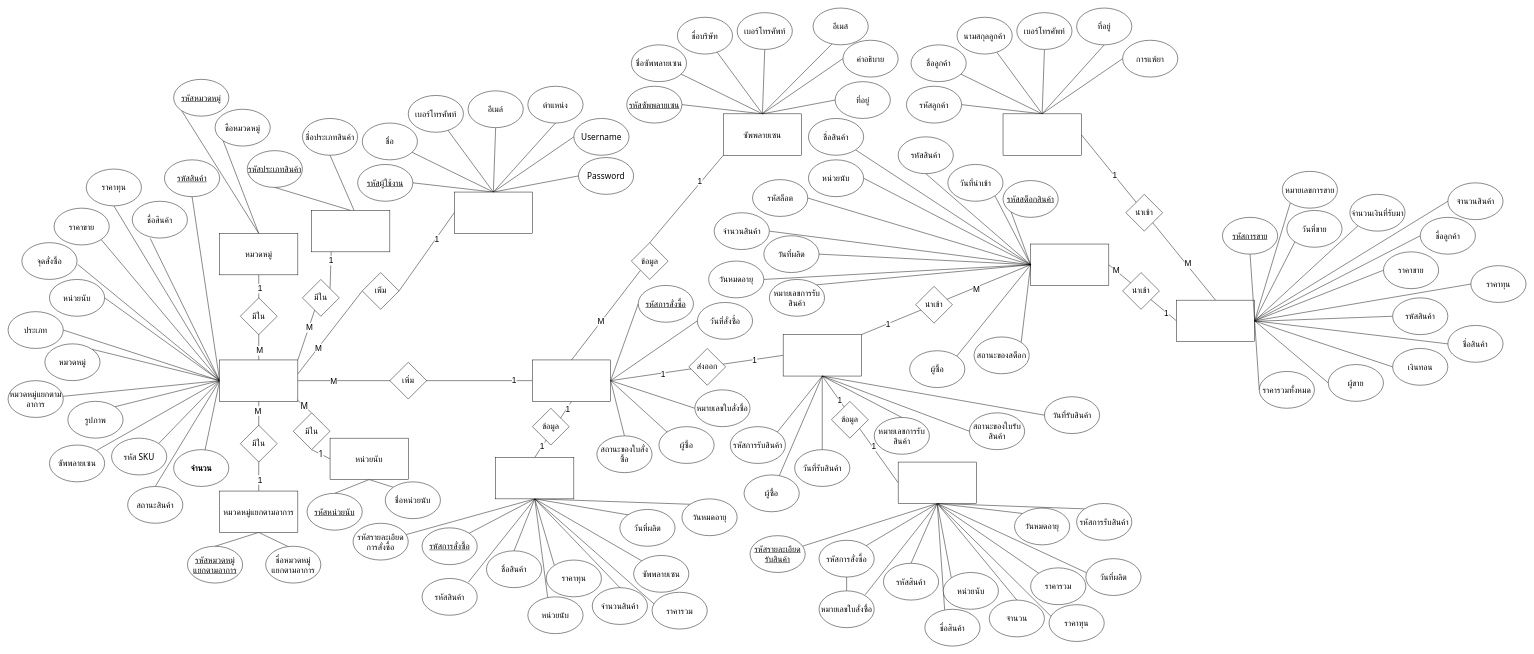
Image size: 1534x654. Some labels were removed from this diagram. The centre of each missing label's shape, as x and y in pixels:
การขาย: [1215,321]
การรับสินค้า: [822,355]
การสั่งซื้อ: [571,380]
ประเภทสินค้า: [350,231]
ผู้ใช้งานระบบ: [493,212]
รายละเอียดการสั่งซื้อ: [534,478]
รายละเอียดใบรับสินค้า: [937,482]
ลูกค้า: [1042,134]
สต็อกสินค้า: [1069,264]
สินค้า: [258,380]
